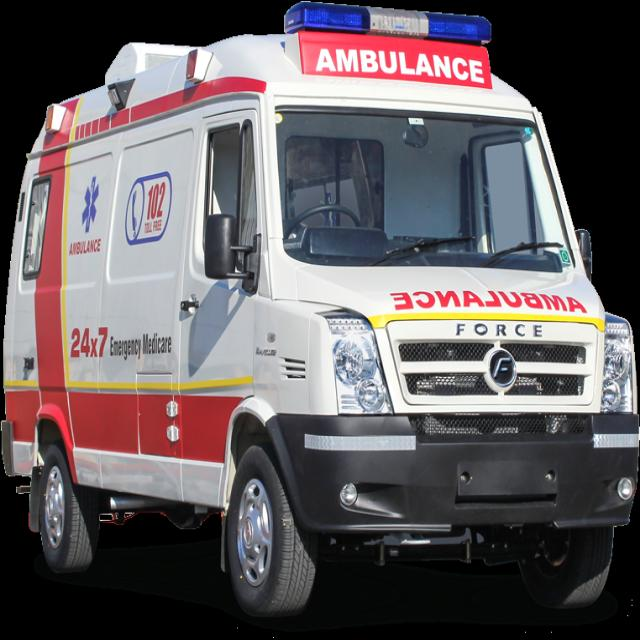Ambulance: (4, 4, 639, 625)
